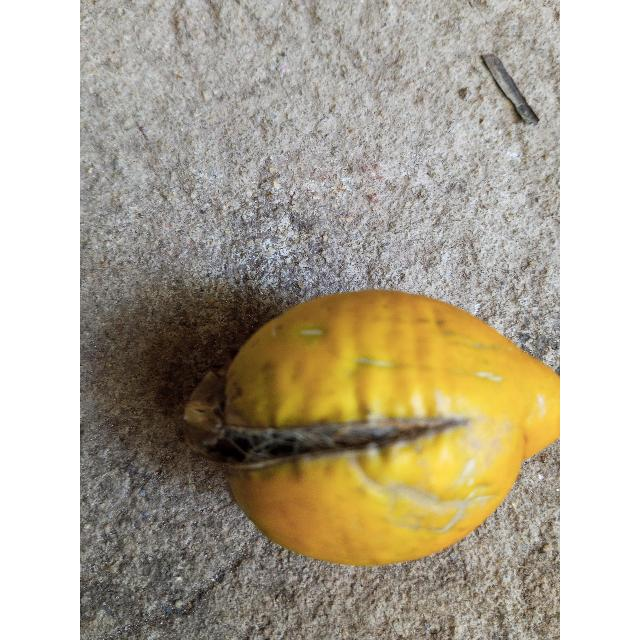damaged: (220, 290, 560, 569)
